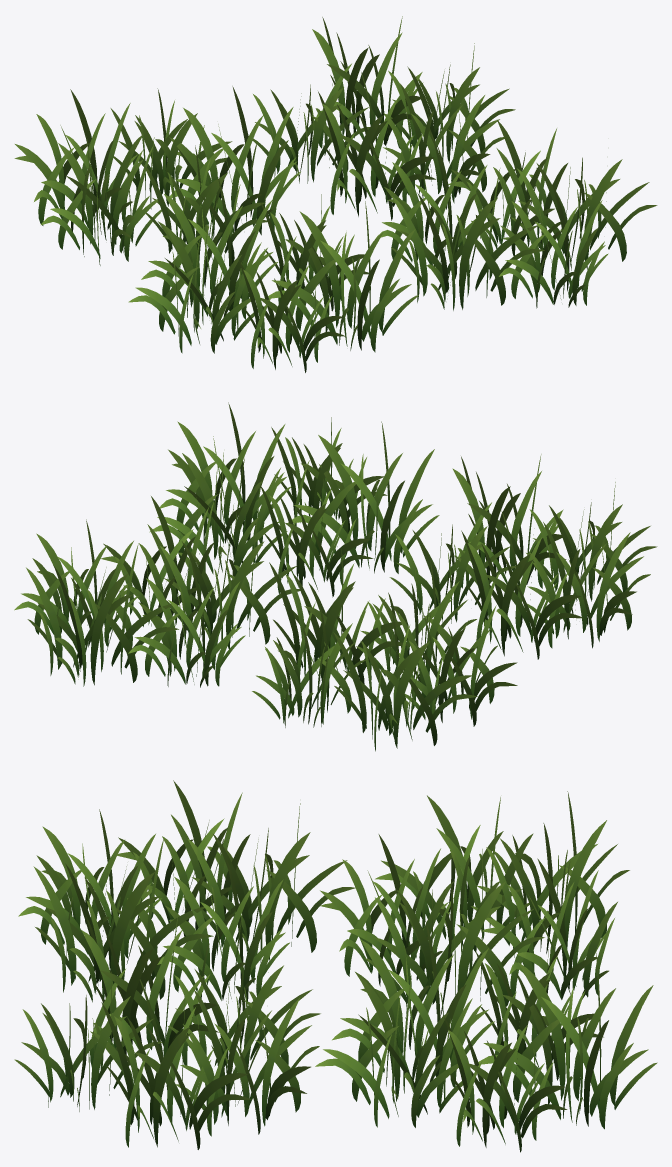
File: StylizedGrass.glb
The picture shows the model from 3 angles, top to bottom: view 1: azimuth 30°, elevation 25°; view 2: azimuth 150°, elevation 25°; view 3: azimuth 270°, elevation 25°; orthographic projection. The views are drawn at different scales.
Visible parts, largest first — view 1: default9_Material_0; view 2: default9_Material_0; view 3: default9_Material_0.
Boxes of the visible parts, box(x1,y1,x2,y2) form: default9_Material_0: box(14, 16, 657, 372); default9_Material_0: box(14, 402, 657, 751); default9_Material_0: box(14, 780, 657, 1152).
Bounding box in the file's own units: 0.0121 × 0.00278 × 0.0116.
Materials: 1 (1 with a texture image).
